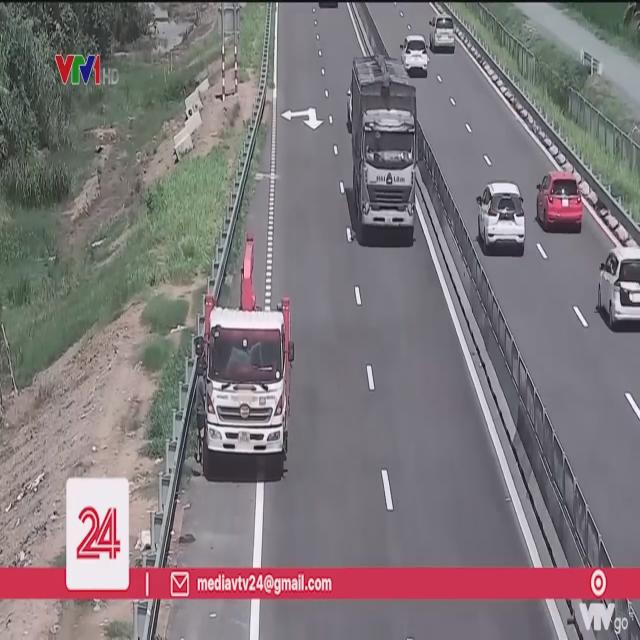car: (596, 246, 640, 332), (476, 183, 526, 256), (534, 172, 584, 235), (402, 36, 431, 78), (431, 17, 456, 55)
truck: (204, 298, 290, 474), (348, 56, 419, 243)
